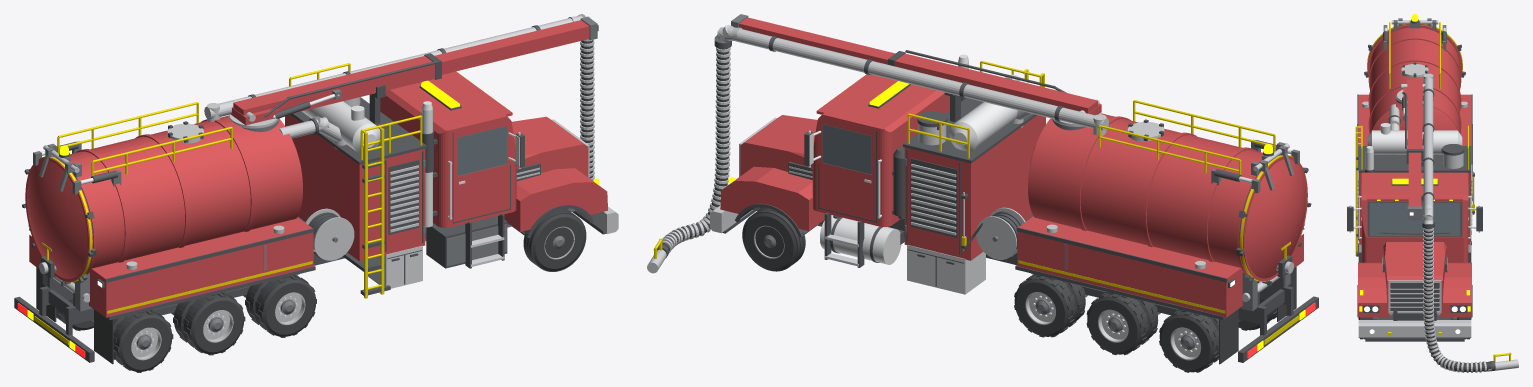
Rendered from hydrovac-truck.glb.
3 views of the same model, side by side, from view 1: azimuth 30°, elevation 25°; view 2: azimuth 150°, elevation 25°; view 3: azimuth 270°, elevation 25° (orthographic). The views are drawn at different scales.
Parts seen in each view (by area): view 1: hood, front_suspension, tyres, rims, tow_hooks, hubs, wheel_nuts, windscreen, step_treads, amber_lamps; view 2: hood, front_suspension, rims, tyres, wheel_nuts, tow_hooks, step_treads, hubs, windscreen, amber_lamps; view 3: hood, front_suspension, rims, windscreen, wheel_nuts, tyres, tow_hooks, hubs, amber_lamps, white_lamps.
Boxes of the visible parts, bbox=[...] form: hood: bbox=[25, 20, 607, 317]; front_suspension: bbox=[14, 25, 605, 362]; tyres: bbox=[36, 40, 593, 372]; rims: bbox=[39, 14, 618, 360]; tow_hooks: bbox=[34, 63, 422, 344]; hubs: bbox=[33, 16, 597, 349]; wheel_nuts: bbox=[41, 94, 520, 352]; windscreen: bbox=[263, 126, 506, 270]; step_treads: bbox=[297, 216, 504, 288]; amber_lamps: bbox=[27, 71, 599, 350]; hood: bbox=[720, 17, 1307, 317]; front_suspension: bbox=[657, 36, 1318, 362]; rims: bbox=[647, 24, 1293, 360]; tyres: bbox=[662, 48, 1296, 372]; wheel_nuts: bbox=[808, 54, 1291, 352]; tow_hooks: bbox=[653, 60, 1298, 344]; step_treads: bbox=[825, 234, 985, 294]; hubs: bbox=[731, 14, 1299, 349]; windscreen: bbox=[822, 124, 1067, 269]; amber_lamps: bbox=[728, 78, 1305, 351]; hood: bbox=[1358, 24, 1471, 317]; front_suspension: bbox=[1347, 19, 1495, 371]; rims: bbox=[1357, 20, 1518, 372]; windscreen: bbox=[1361, 184, 1468, 235]; wheel_nuts: bbox=[1349, 27, 1480, 238]; tyres: bbox=[1358, 228, 1491, 371]; tow_hooks: bbox=[1355, 22, 1511, 362]; hubs: bbox=[1358, 18, 1471, 319]; amber_lamps: bbox=[1359, 14, 1470, 311]; white_lamps: bbox=[1364, 212, 1465, 333].
Size of the model in its own units: 11.12 by 3.83 by 3.81.
